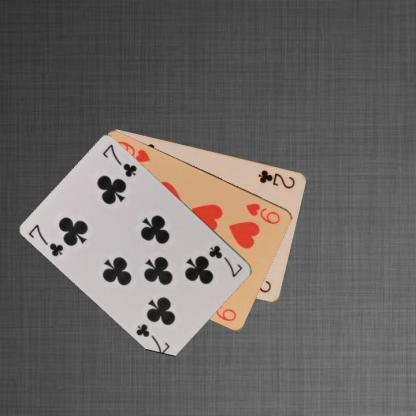2c: (256, 167, 297, 190)
7c: (26, 221, 65, 258), (206, 242, 244, 279)
9h: (244, 200, 282, 226)
